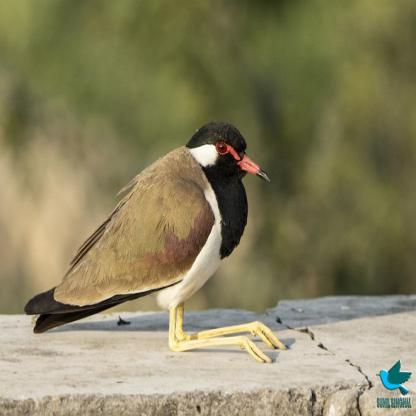Burung: (23, 122, 288, 362)
